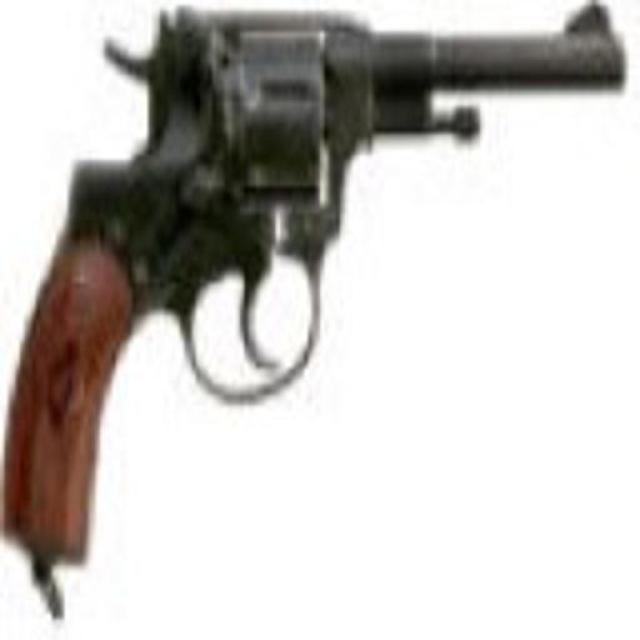pistol: (8, 5, 624, 549)
